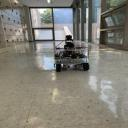cart: (54, 47, 90, 72)
